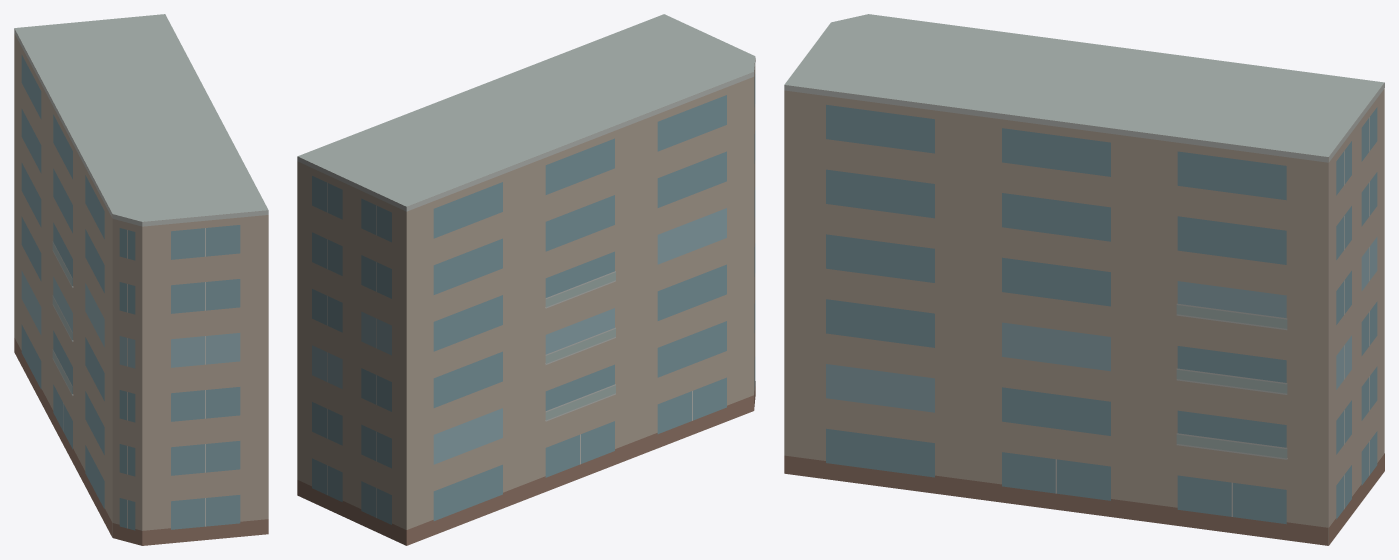
Rendered from survey-upis-32528322.glb.
3 renders of one model, left to right at view 1: azimuth 30°, elevation 25°; view 2: azimuth 150°, elevation 25°; view 3: azimuth 270°, elevation 25°, orthographic. The views are drawn at different scales.
Parts seen in each view (by area): view 1: survey-upis-32528322.tmp; view 2: survey-upis-32528322.tmp; view 3: survey-upis-32528322.tmp.
Boxes of the visible parts, box(x1,y1,x2,y2) form: survey-upis-32528322.tmp: box(14, 14, 268, 545); survey-upis-32528322.tmp: box(297, 14, 755, 545); survey-upis-32528322.tmp: box(784, 14, 1384, 545).
Bounding box in the file's own units: 13.35 × 16.9 × 23.67.
